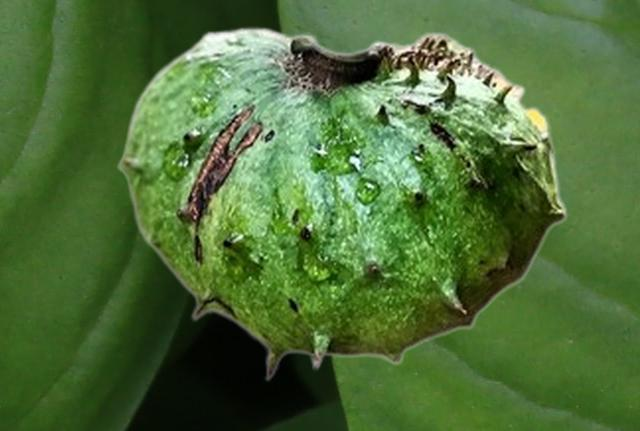guyabano: (117, 26, 567, 381)
